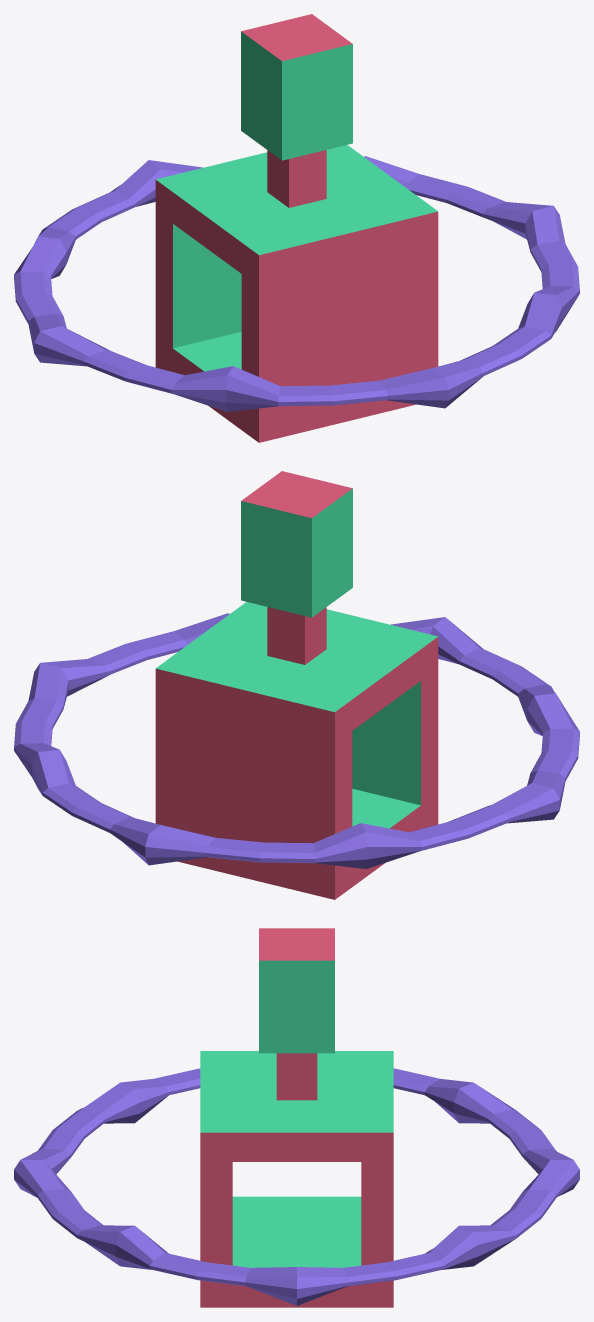
Rendered from red_cube.fbx.
The picture shows the model from 3 angles, top to bottom: view 1: azimuth 30°, elevation 25°; view 2: azimuth 150°, elevation 25°; view 3: azimuth 270°, elevation 25°; orthographic projection. The views are drawn at different scales.
Visible parts, largest first — view 1: Cube; view 2: Cube; view 3: Cube.
Boxes of the visible parts, x1,y1,x2,y2 form: Cube: (14,14,579,442); Cube: (14,471,579,899); Cube: (14,928,579,1307).
Size of the model in its own units: 586 by 368 by 586.
